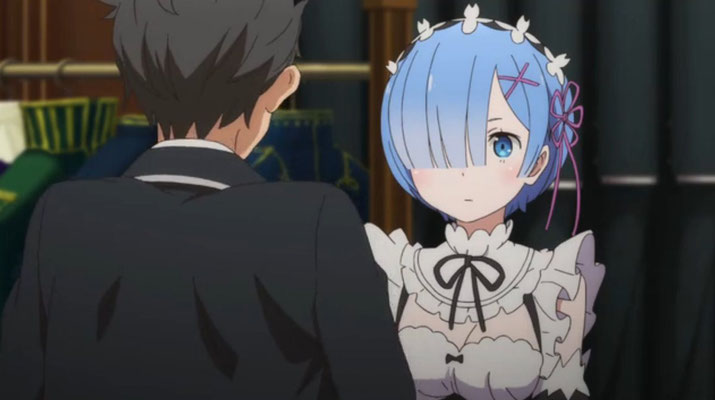rem: (352, 11, 599, 400)
